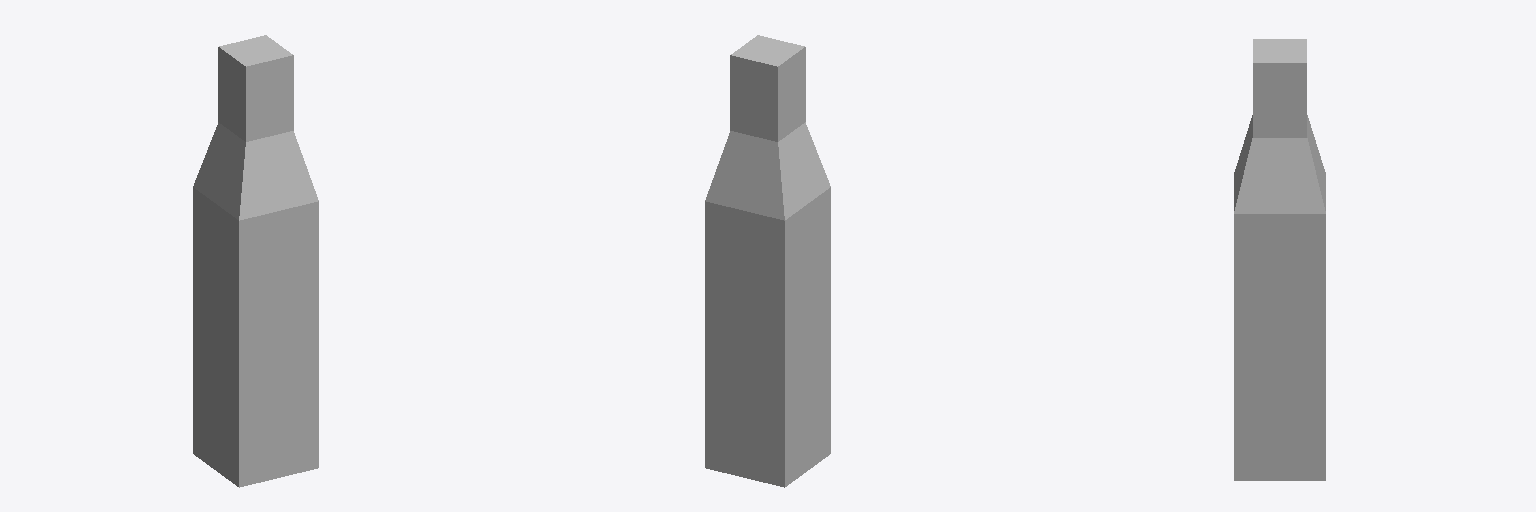
File: radioStation.obj
3 views of the same model, side by side, from view 1: azimuth 30°, elevation 25°; view 2: azimuth 150°, elevation 25°; view 3: azimuth 270°, elevation 25° (orthographic).
Visible parts, largest first — view 1: RadioStation; view 2: RadioStation; view 3: RadioStation.
Boxes of the visible parts, x1=… form: RadioStation: x1=193, y1=35, x2=318, y2=487; RadioStation: x1=705, y1=35, x2=830, y2=487; RadioStation: x1=1234, y1=39, x2=1325, y2=480.
Bounding box in the file's own units: 0.5 × 2.45 × 0.5.